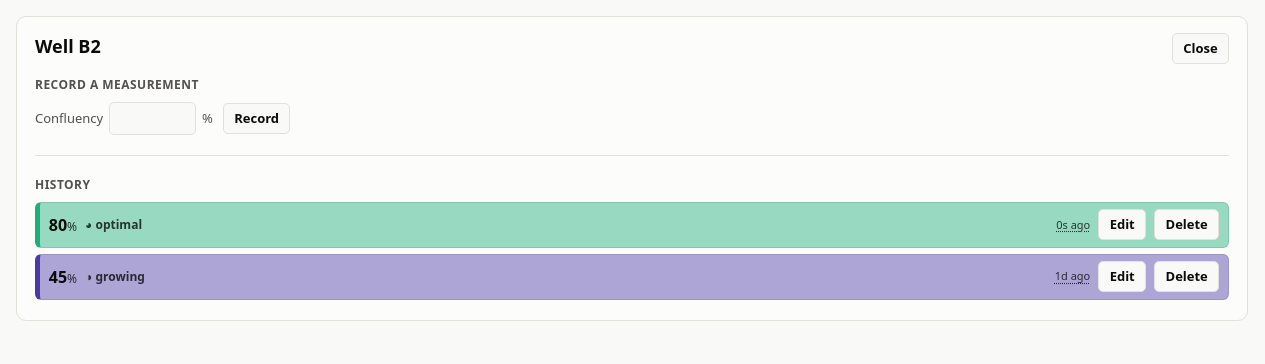
WellPanel — recording a measurement › keeps what was typed when the server rejects it
The width and height of the screenshot is (1265, 364).
Expected: the text "80" is shown, x1=49 y1=214 x2=67 y2=236
Type "101" into the number field labelled "Confluency".
click(153, 119); type("101")  # box x1=109 y1=102 x2=196 y2=135
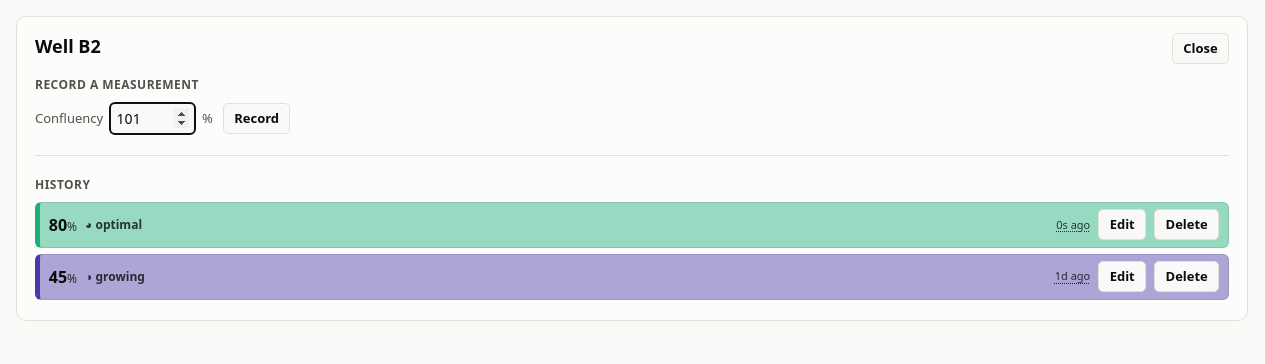
Click the button "Record".
click(257, 119)  # box x1=223 y1=103 x2=290 y2=134
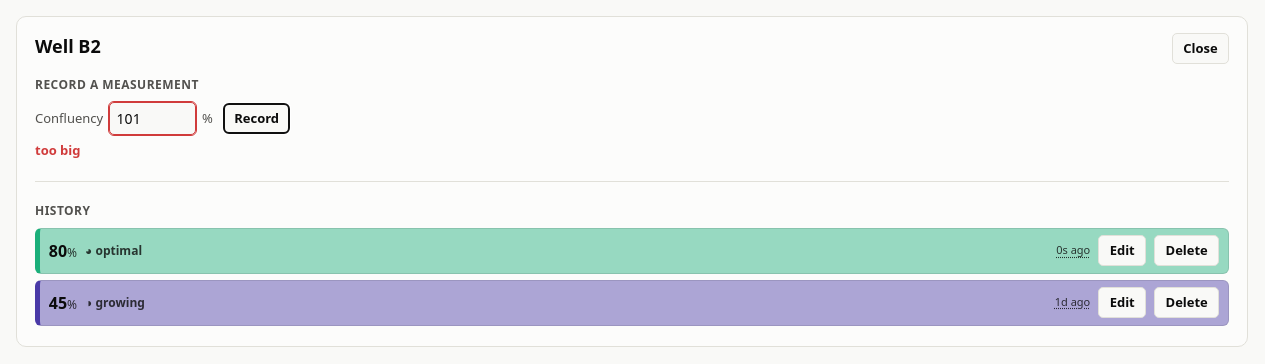
Expected: the text "too big" is shown, x1=35 y1=141 x2=80 y2=159
